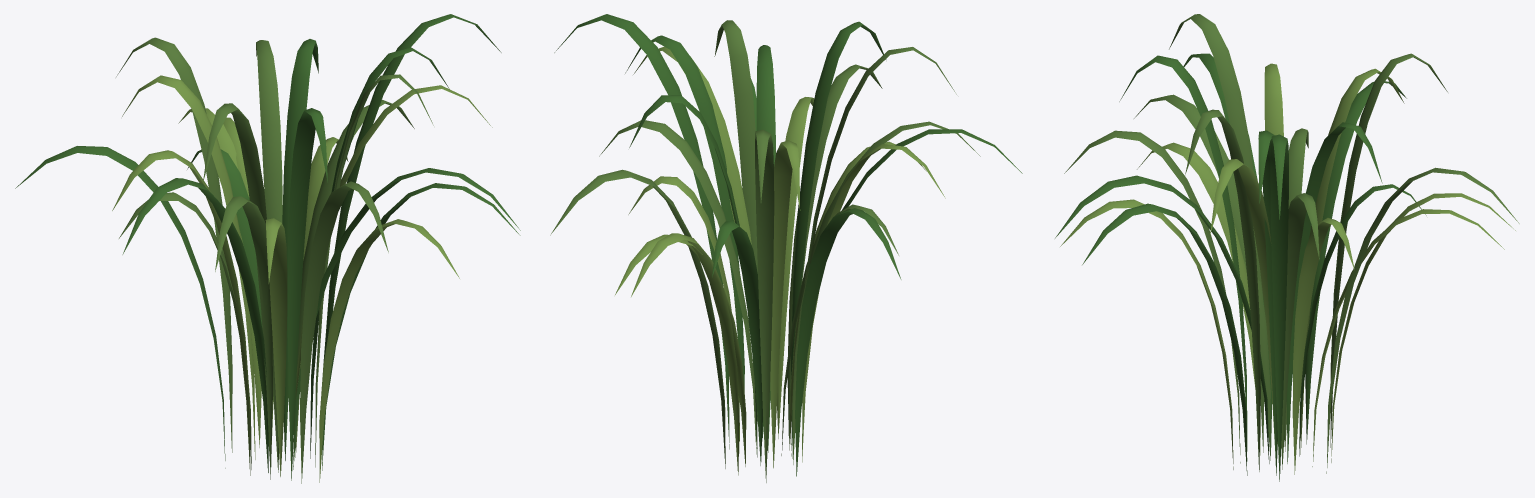
Rendered from meadow_sedge.hi.glb.
3 renders of one model, left to right at view 1: azimuth 30°, elevation 25°; view 2: azimuth 150°, elevation 25°; view 3: azimuth 270°, elevation 25°, orthographic. The views are drawn at different scales.
Parts seen in each view (by area): view 1: body; view 2: body; view 3: body.
Boxes of the visible parts, x1,y1,x2,y2 form: body: (15, 14, 520, 483); body: (550, 14, 1022, 482); body: (1055, 14, 1519, 481).
Size of the model in its own units: 0.5611 by 0.5152 by 0.5424.
